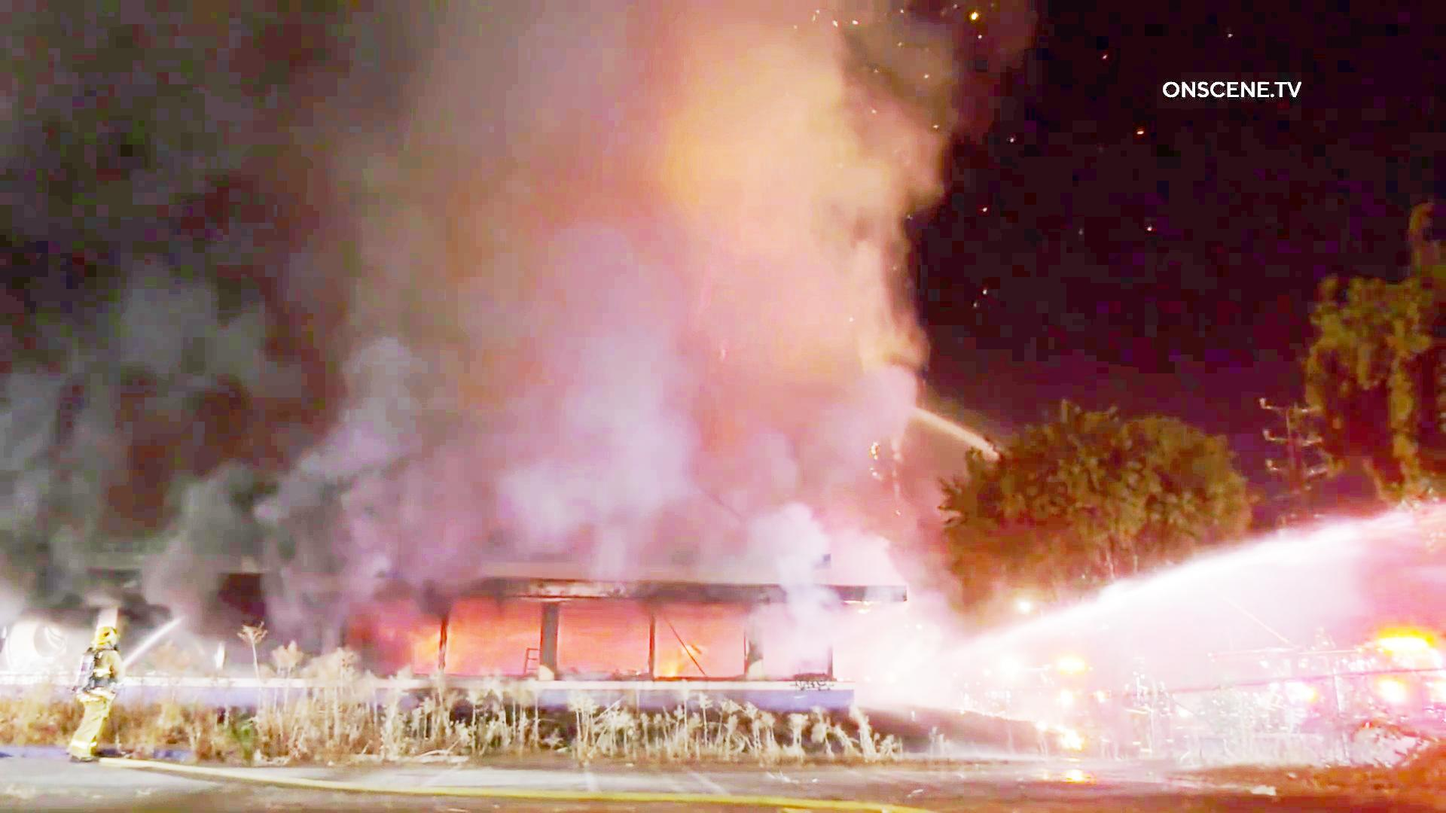smoke: (24, 2, 652, 559), (629, 18, 888, 575), (0, 219, 296, 627)
